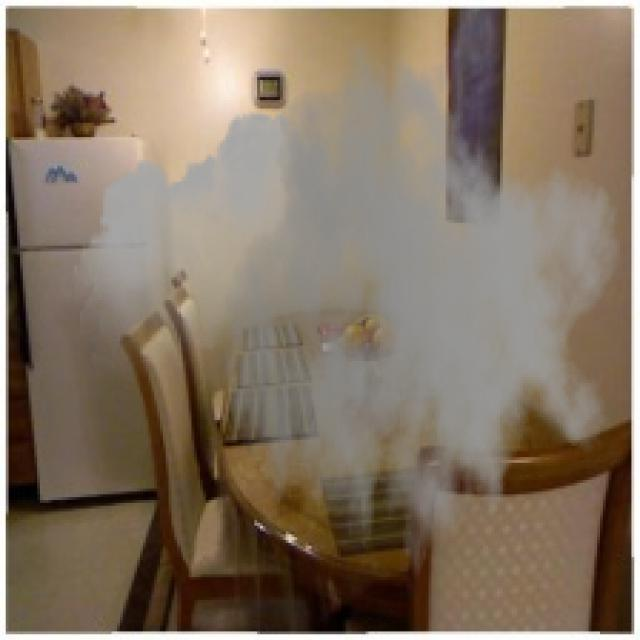Smoke: (71, 40, 623, 603)
